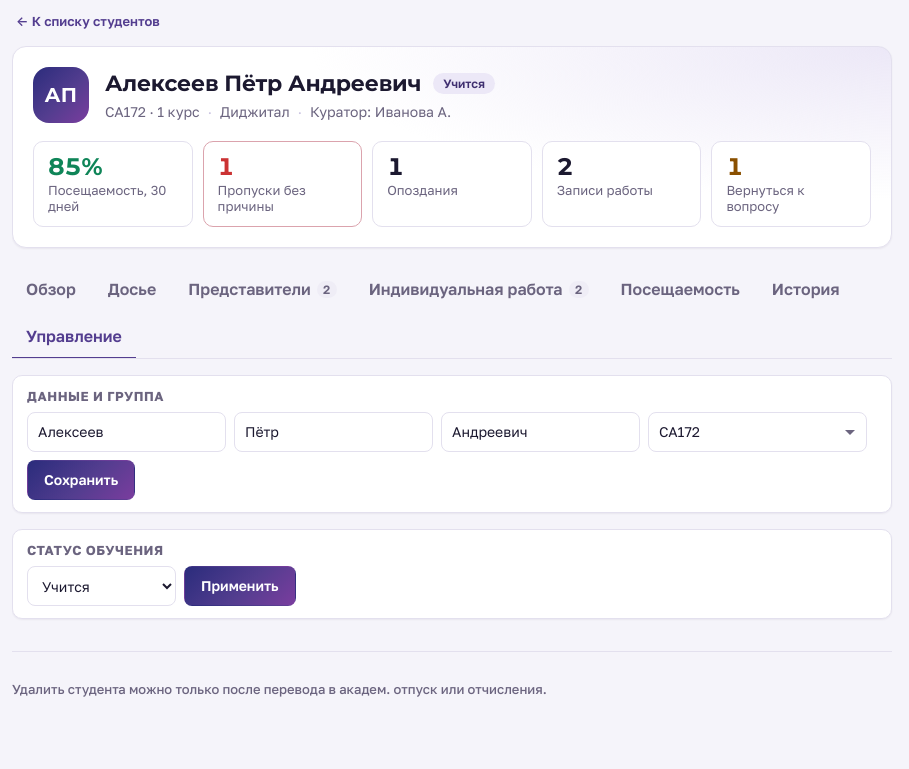
StudentCardPage — управление › правка ФИО без перевода: отправляются части ФИО и текущая группа
Check: the button "Применить" is shown, box [184,566,296,606]
Replace the text in the field with placeholder "Фамилия" with "Алексеев-Смирнов": x=126, y=432 [27,412,226,452]
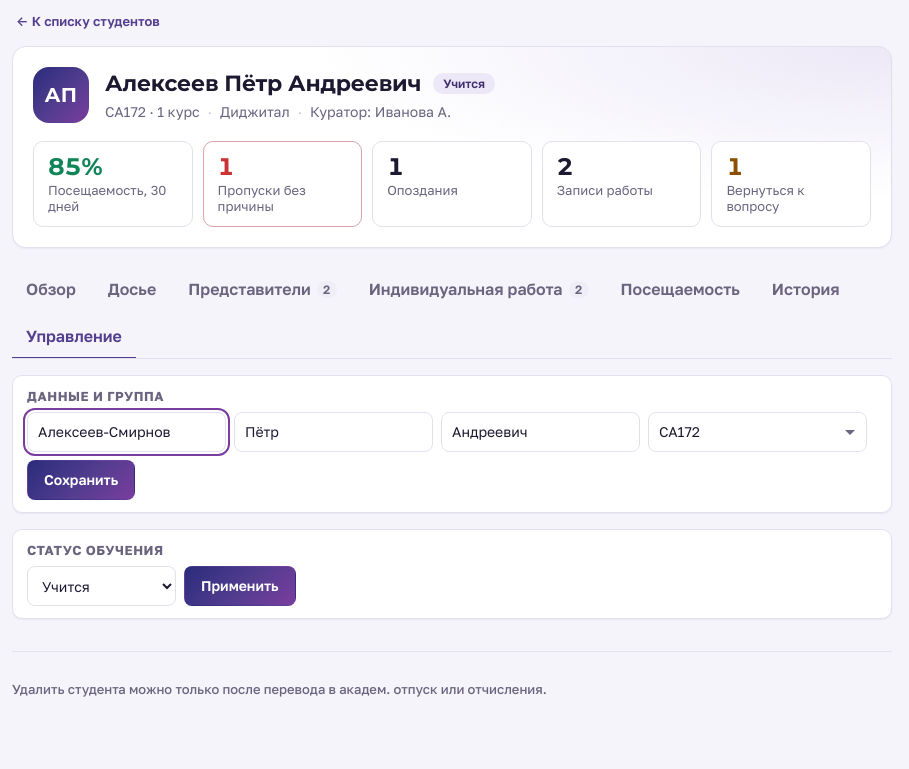
Click the button "Сохранить": x=81, y=480 [27,460,135,500]
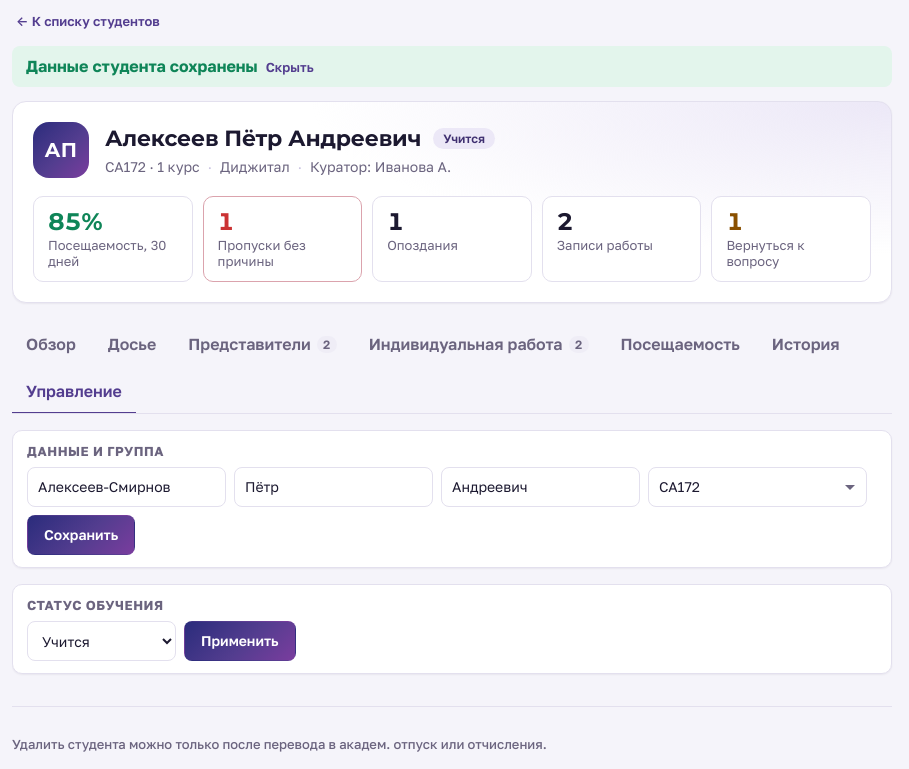
Check: the text "Данные студента сохранены" is shown, box [26,56,258,76]
